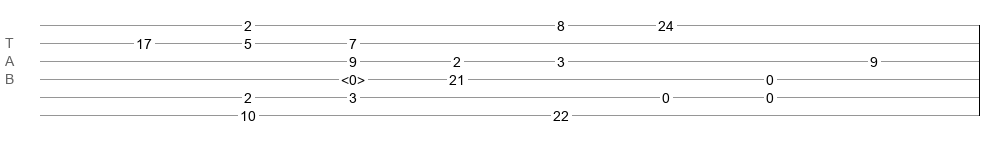0: (662, 90, 670, 100), (766, 72, 774, 82), (766, 90, 774, 100)
10: (240, 108, 256, 118)
17: (136, 36, 152, 46)
2: (244, 90, 252, 100), (244, 18, 252, 28), (453, 54, 461, 64)
21: (449, 72, 465, 82)
22: (553, 108, 569, 118)
24: (658, 18, 674, 28)
3: (349, 90, 357, 100), (557, 54, 565, 64)
5: (244, 36, 252, 46)
7: (349, 36, 357, 46)
8: (557, 18, 565, 28)
9: (349, 54, 357, 64), (870, 54, 878, 64)
harmonic: (341, 72, 365, 82)
